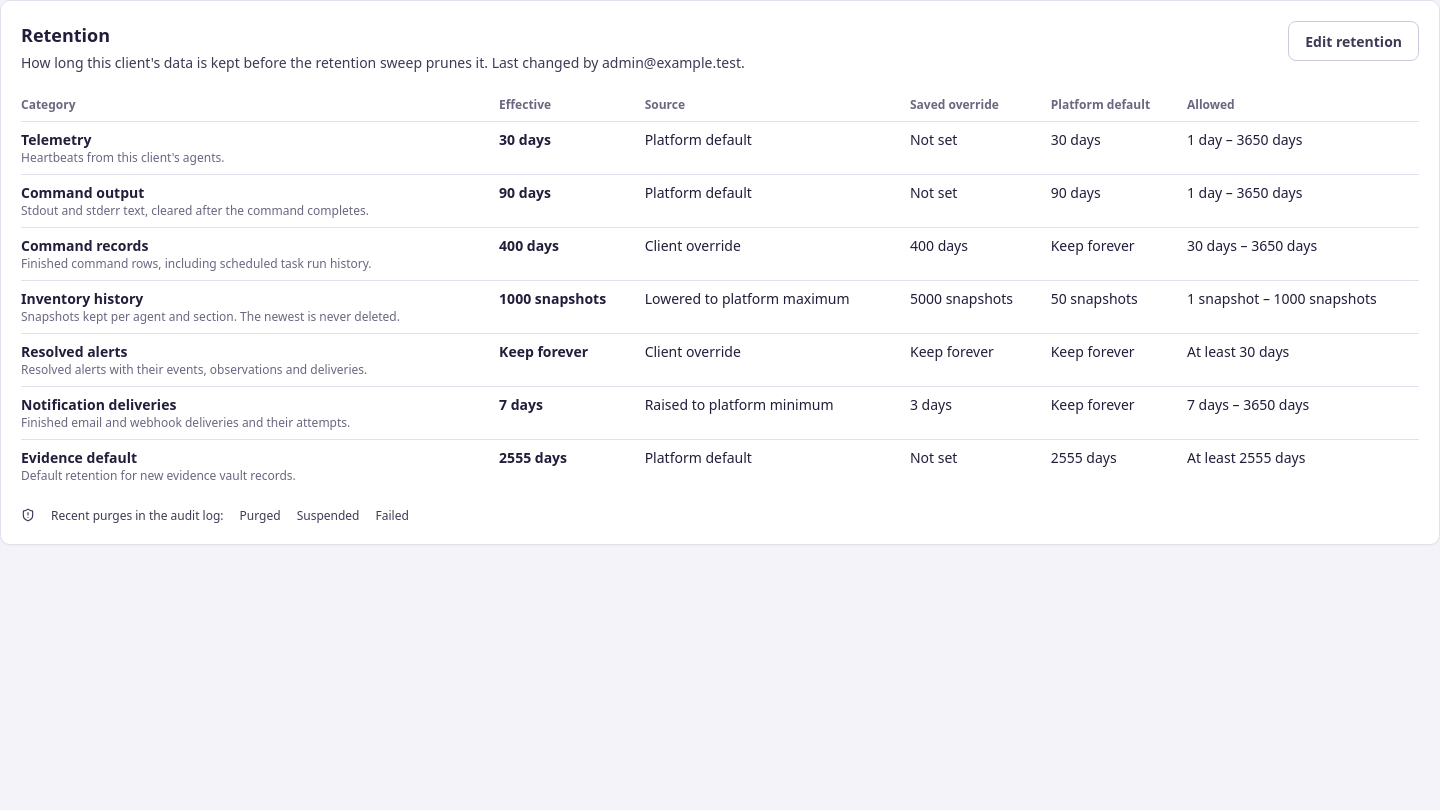
a 409 reloads the policy and shows what changed instead of overwriting
Click the button "Edit retention".
click(1354, 41)  # box [1288,21,1419,61]
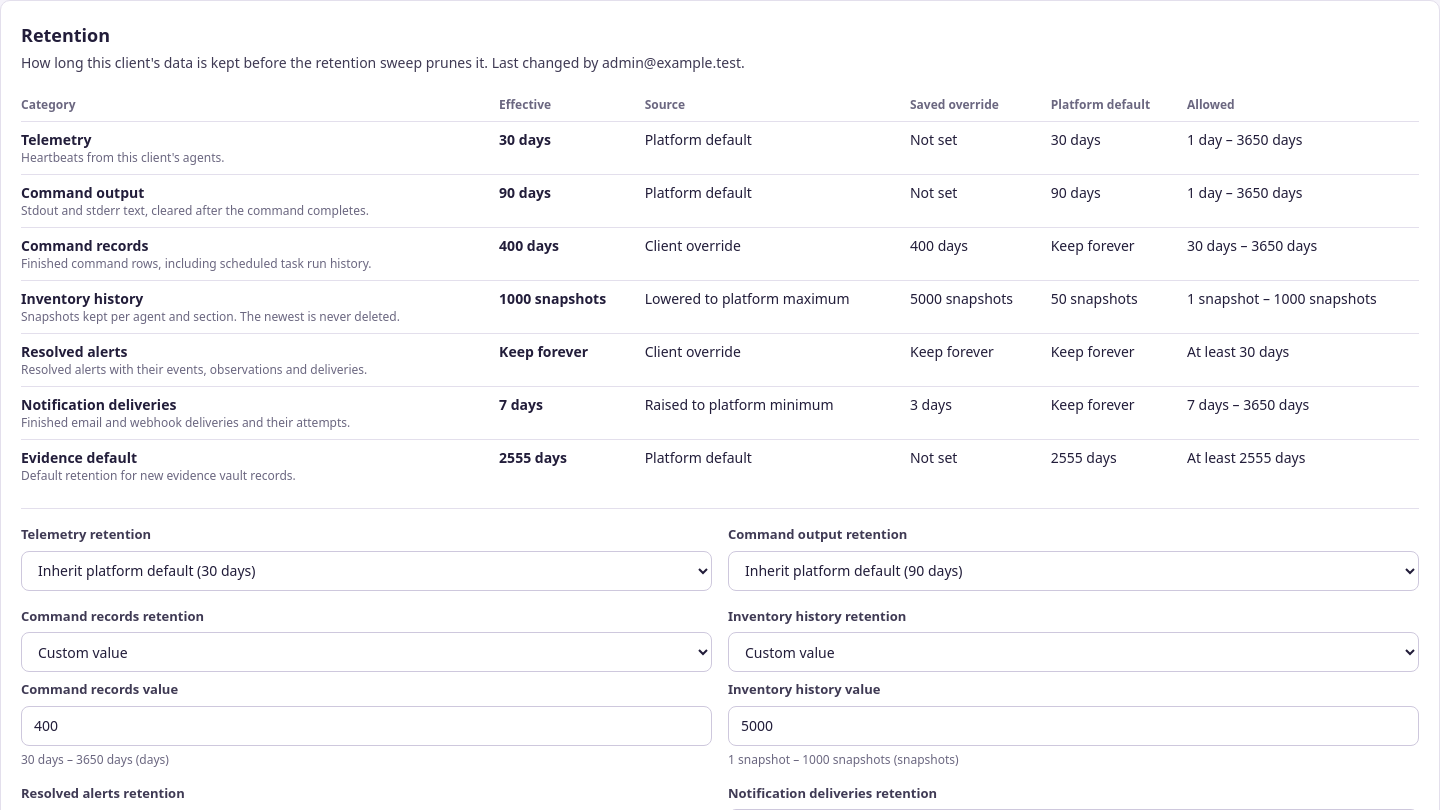
Select "Custom value" in the dropdown labelled "Inventory history retention" at [1074, 652], box [728,632,1419,672]
Replace the text in the field labelled "Inventory history value" with "1000" at [1074, 726], box [728,706,1419,746]
(page scrolled)
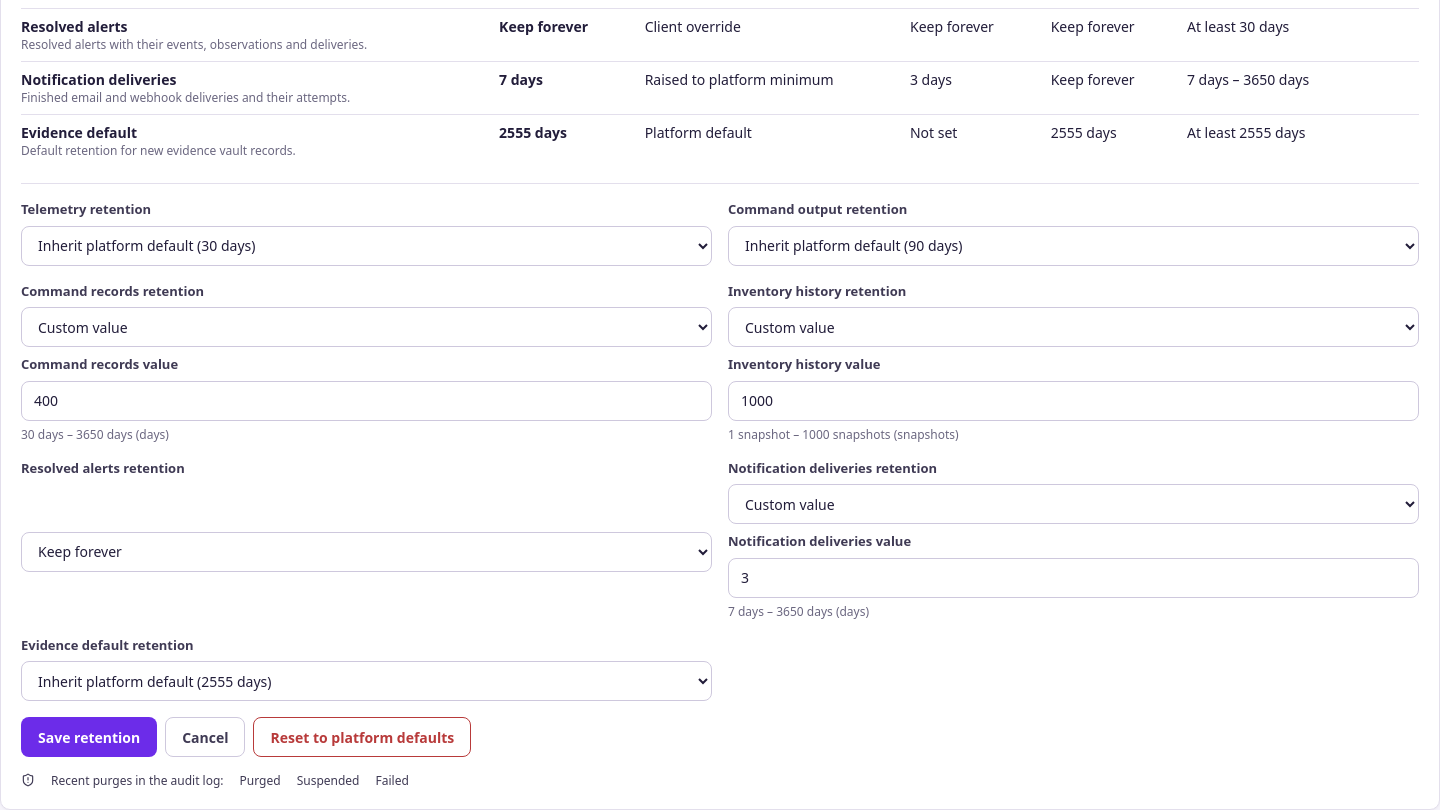
Select "Inherit platform default (Keep forever)" in the dropdown labelled "Notification deliveries retention" at [1074, 504], box [728,484,1419,524]
(page scrolled)
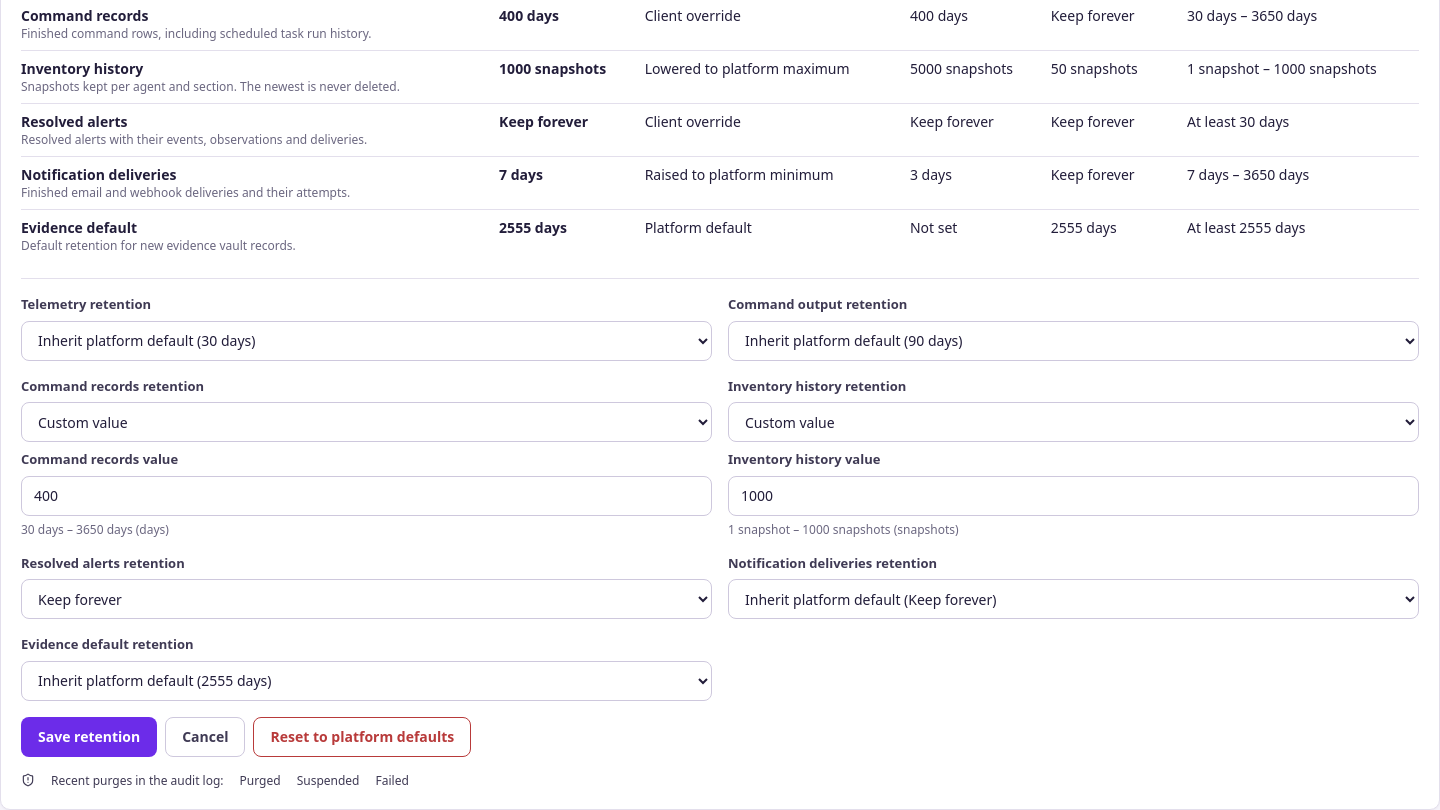
Select "Custom value" in the dropdown labelled "Telemetry retention" at [366, 340], box [21,320,712,360]
(page scrolled)
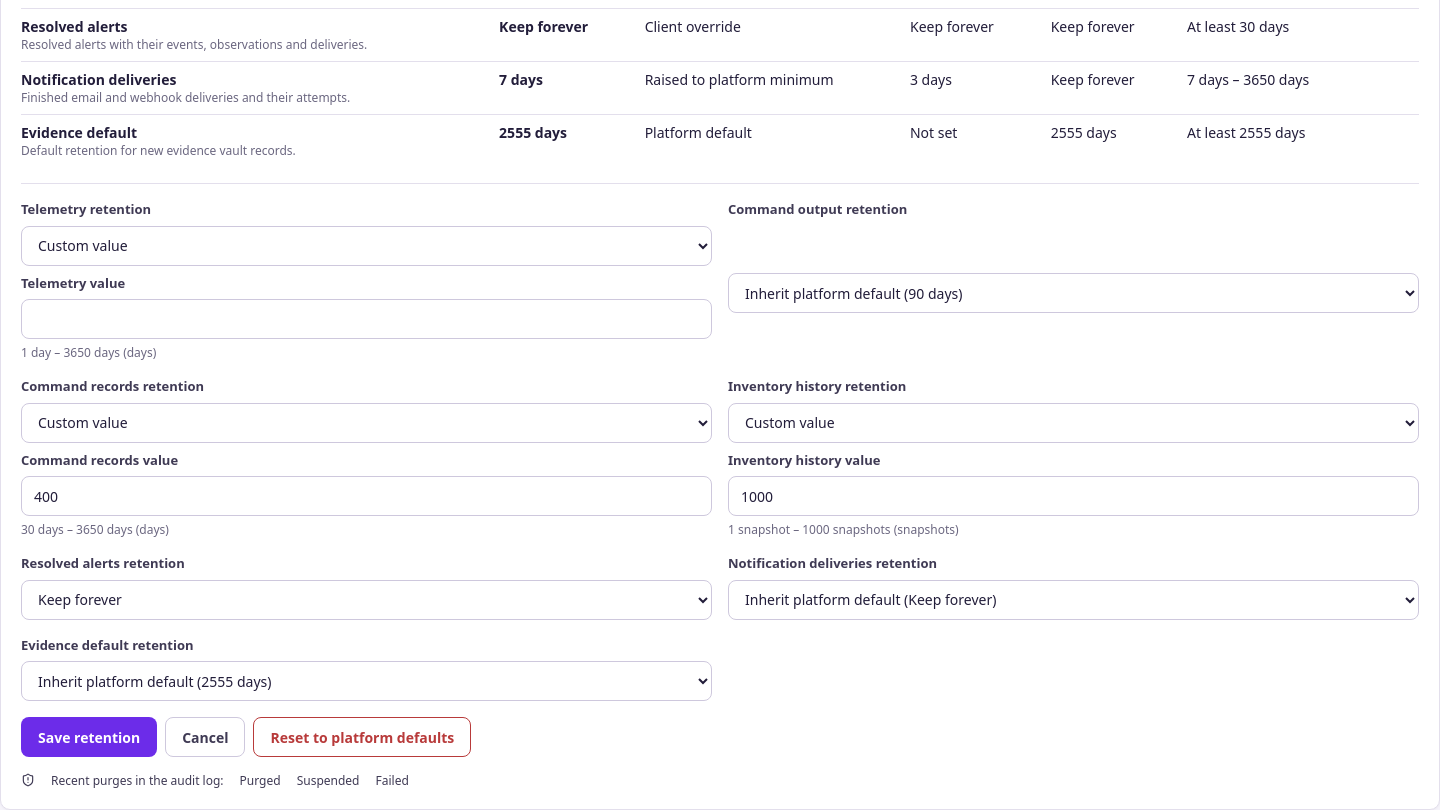
Type "60" into the field labelled "Telemetry value".
click(366, 319); type("60")  # box [21,299,712,339]
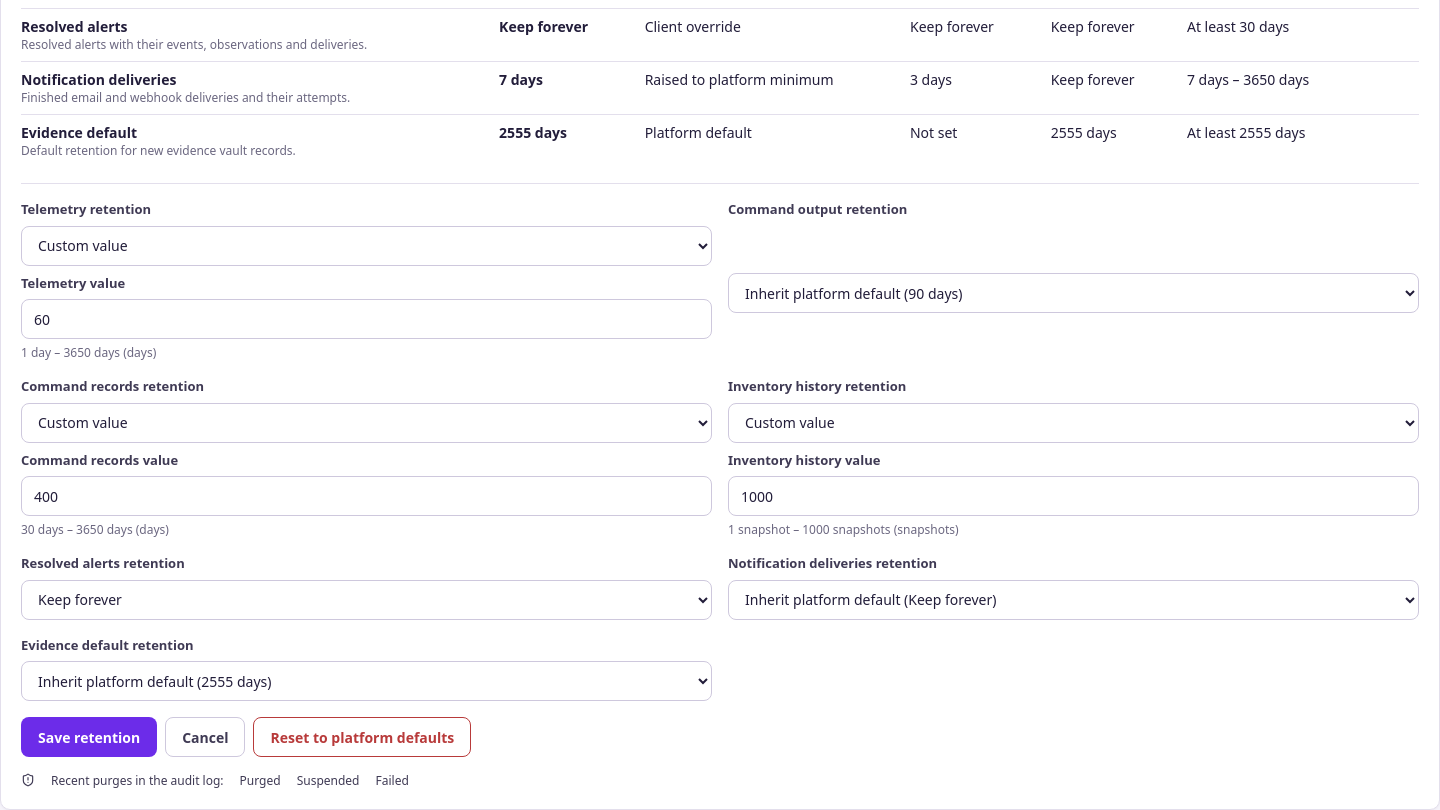
Click the button "Save retention".
click(89, 737)  # box [21,717,157,757]
(page scrolled)
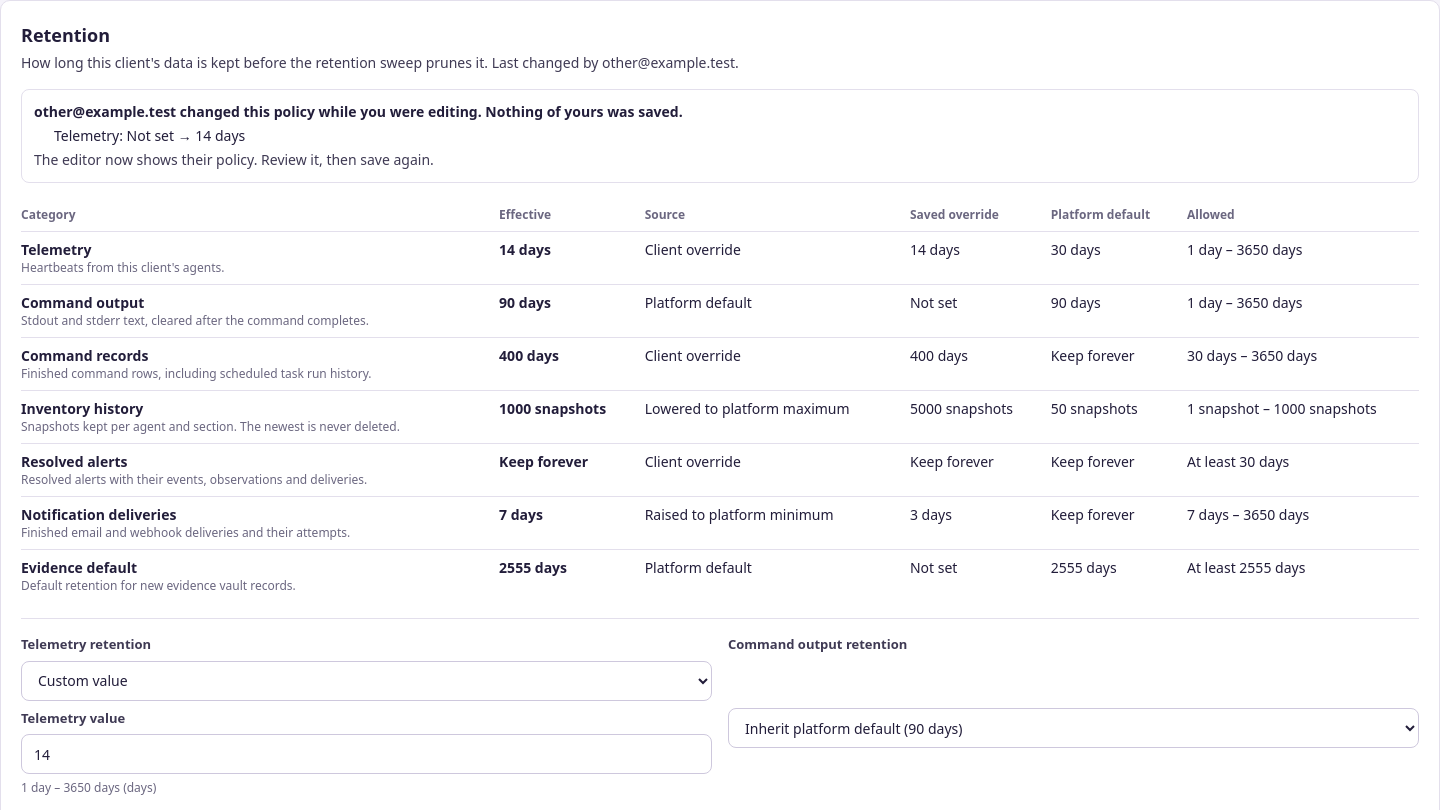
Expected: the message named "Policy changed by another administrator" shows "other@example.test", [34,102,176,121]
Expected: the message named "Policy changed by another administrator" shows "Telemetry: Not set → 14 days", [21,89,1419,183]
